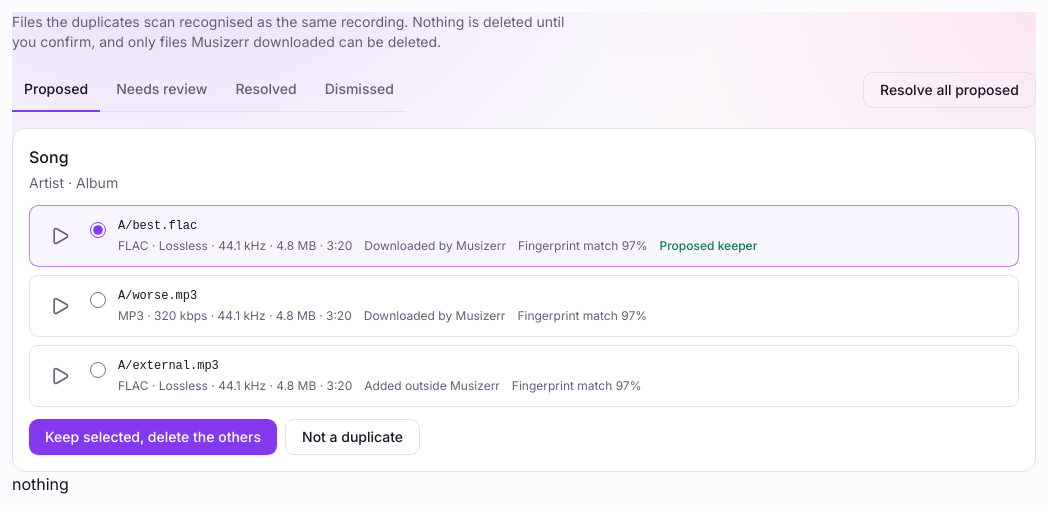
Test case: Administration › Duplicates › each file plays its own stream on its own, and the player says which file it is
Click the button named "Play this file: A/worse.mp3". click: click(60, 306)
box: [38,284,82,328]
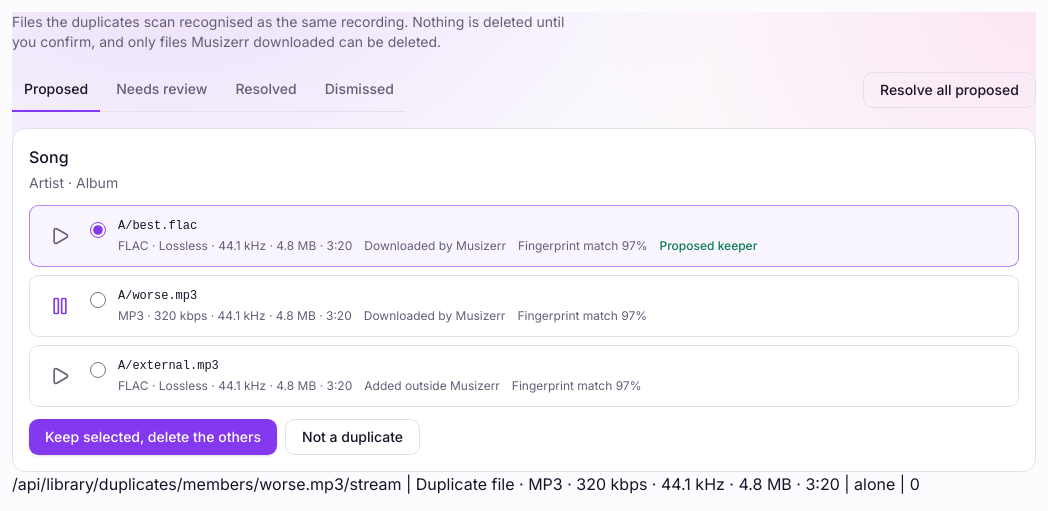
Now the text named "now playing" shows "/api/library/duplicates/members/worse.mp3/stream", box [12,474,920,494]
Now the text named "now playing" shows "Duplicate file · MP3 · 320 kbps", box [12,474,920,494]
Now the text named "now playing" shows "alone | 0", box [12,474,920,494]
